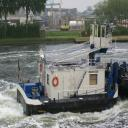tugboat: (16, 18, 123, 120)
